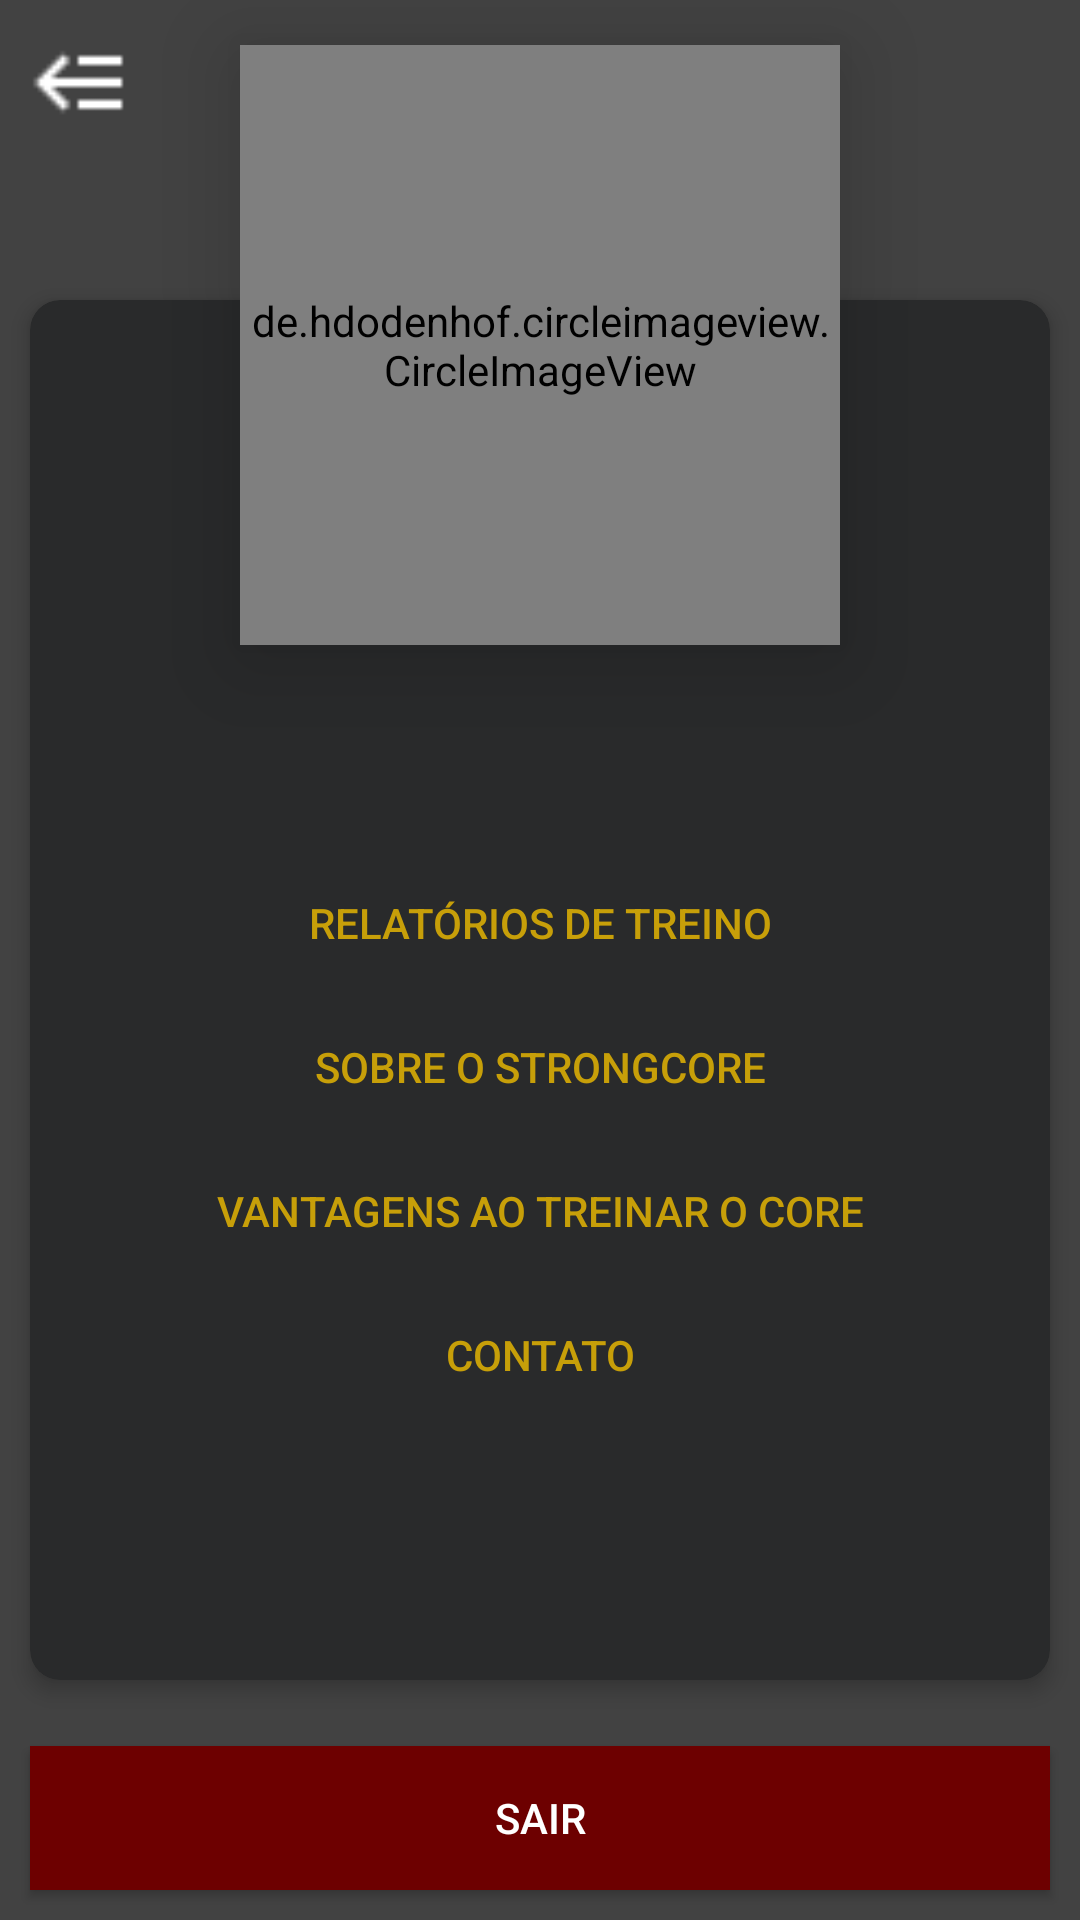

Where to tap for icons on this 1080 x 1920 app screen, as (x=x, y=y):
backburger: (x=78, y=82)
